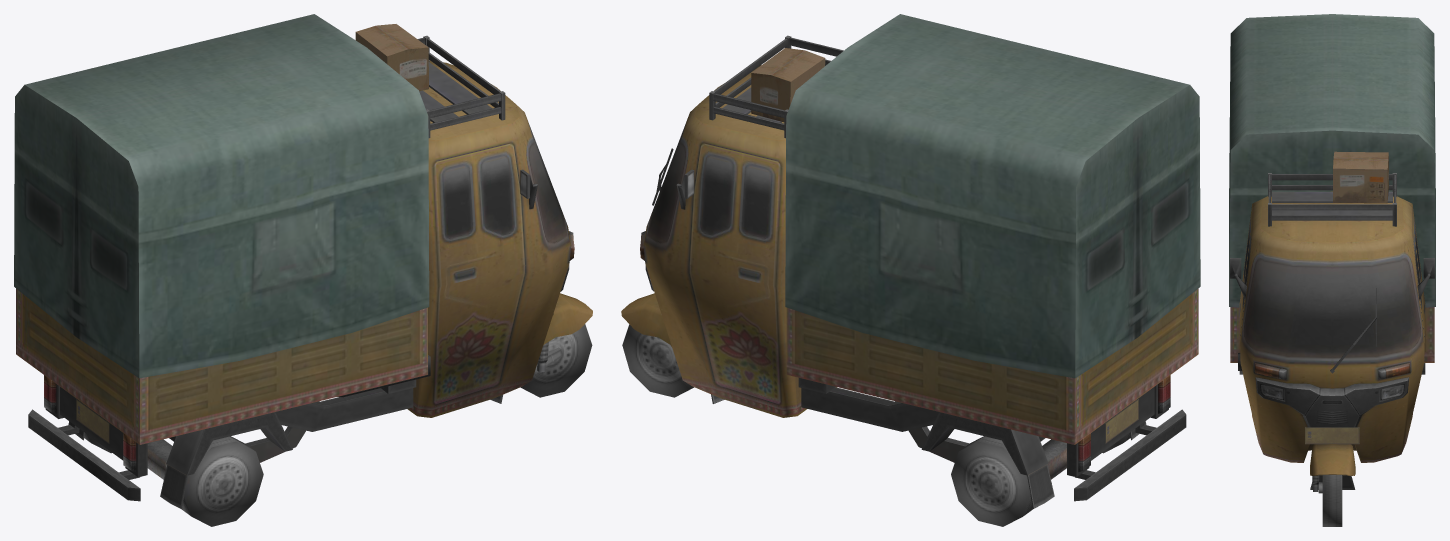
The model's file is sf_rickshaw_04.glb.
The picture shows the model from 3 angles, left to right: view 1: azimuth 30°, elevation 25°; view 2: azimuth 150°, elevation 25°; view 3: azimuth 270°, elevation 25°; orthographic projection. The views are drawn at different scales.
Visible parts, largest first — view 1: Traffick_Rickshaw_04_Body, Traffick_Rickshaw_04_Wheel_Rear_R_Traffic_Rickshaw_Component, Traffick_Rickshaw_04_Wheel_Front_Traffic_Rickshaw_Component_; view 2: Traffick_Rickshaw_04_Body, Traffick_Rickshaw_04_Wheel_Rear_L_Traffic_Rickshaw_Component, Traffick_Rickshaw_04_Wheel_Front_Traffic_Rickshaw_Component_; view 3: Traffick_Rickshaw_04_Body, Traffick_Rickshaw_04_Wheel_Front_Traffic_Rickshaw_Component_, Traffick_Rickshaw_04_Light, Traffick_Rickshaw_04_Light_Turn_L, Traffick_Rickshaw_04_Light_Turn_R.
Boxes of the visible parts, bbox=[...] form: Traffick_Rickshaw_04_Body: bbox=[14, 14, 592, 509]; Traffick_Rickshaw_04_Wheel_Rear_R_Traffic_Rickshaw_Component: bbox=[182, 436, 263, 526]; Traffick_Rickshaw_04_Wheel_Front_Traffic_Rickshaw_Component_: bbox=[520, 324, 592, 397]; Traffick_Rickshaw_04_Body: bbox=[621, 14, 1200, 508]; Traffick_Rickshaw_04_Wheel_Rear_L_Traffic_Rickshaw_Component: bbox=[951, 436, 1032, 526]; Traffick_Rickshaw_04_Wheel_Front_Traffic_Rickshaw_Component_: bbox=[622, 324, 693, 397]; Traffick_Rickshaw_04_Body: bbox=[1229, 14, 1435, 493]; Traffick_Rickshaw_04_Wheel_Front_Traffic_Rickshaw_Component_: bbox=[1322, 475, 1342, 526]; Traffick_Rickshaw_04_Light: bbox=[1260, 368, 1404, 400]; Traffick_Rickshaw_04_Light_Turn_L: bbox=[1385, 363, 1410, 378]; Traffick_Rickshaw_04_Light_Turn_R: bbox=[1254, 363, 1279, 378].
Size of the model in its own units: 3.09 by 2.24 by 1.32.
Materials: 3 (3 with a texture image).
